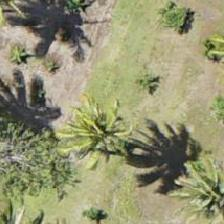coconut_tree: (51, 87, 141, 177), (171, 147, 223, 223)
